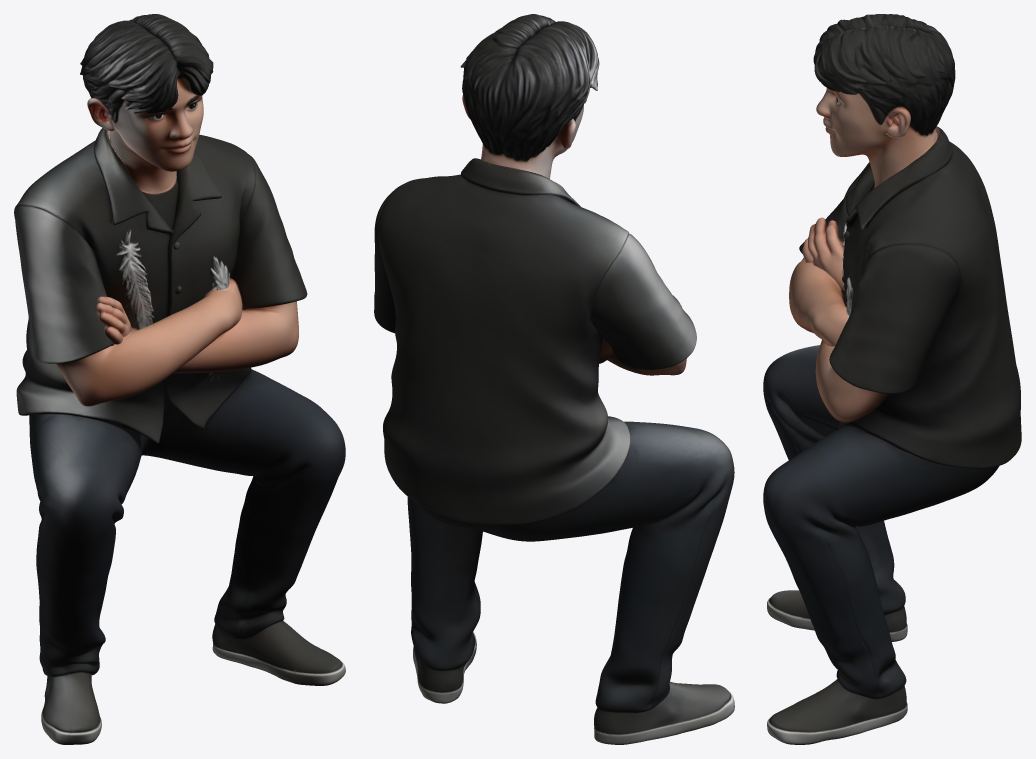
The model's file is FauzanUnity.fbx.
3 renders of one model, left to right at view 1: azimuth 30°, elevation 25°; view 2: azimuth 150°, elevation 25°; view 3: azimuth 270°, elevation 25°, orthographic. The views are drawn at different scales.
Parts seen in each view (by area): view 1: tripo_node_d0da11c0; view 2: tripo_node_d0da11c0; view 3: tripo_node_d0da11c0.
Boxes of the visible parts, x1,y1,x2,y2 form: tripo_node_d0da11c0: (14,14,345,744); tripo_node_d0da11c0: (374,14,734,744); tripo_node_d0da11c0: (763,14,1021,744).
Bounding box in the file's own units: 0.4687 × 1 × 0.3579.
